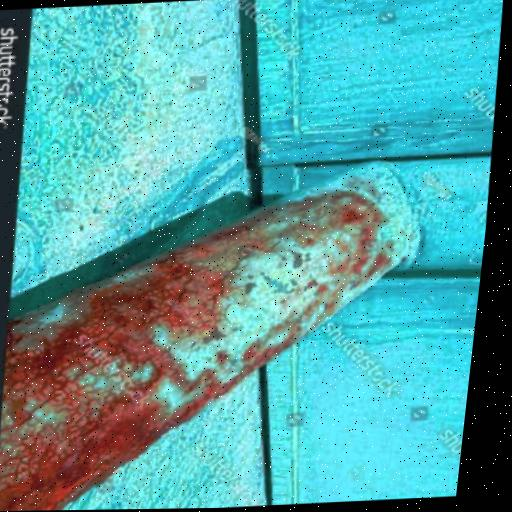corrosion: (10, 238, 249, 511)
